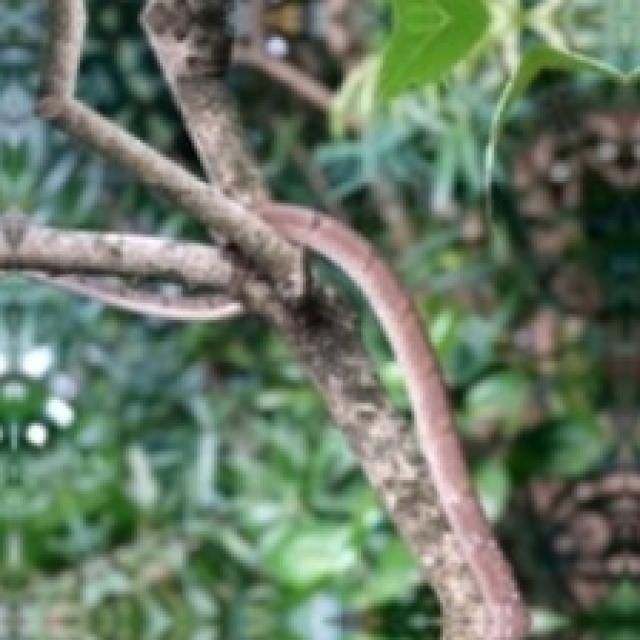dog-toothed cat snake: (266, 202, 528, 639), (34, 276, 245, 321)
